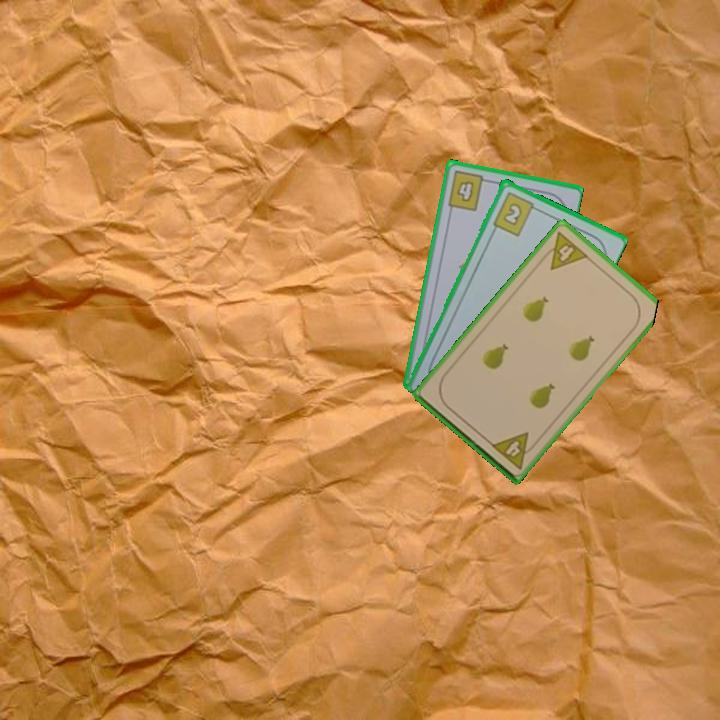2b: (489, 188, 541, 239)
4b: (444, 167, 492, 214)
4p: (537, 228, 591, 273), (488, 428, 540, 472)
